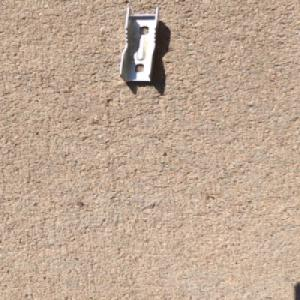ClampPart: (116, 5, 164, 85)
